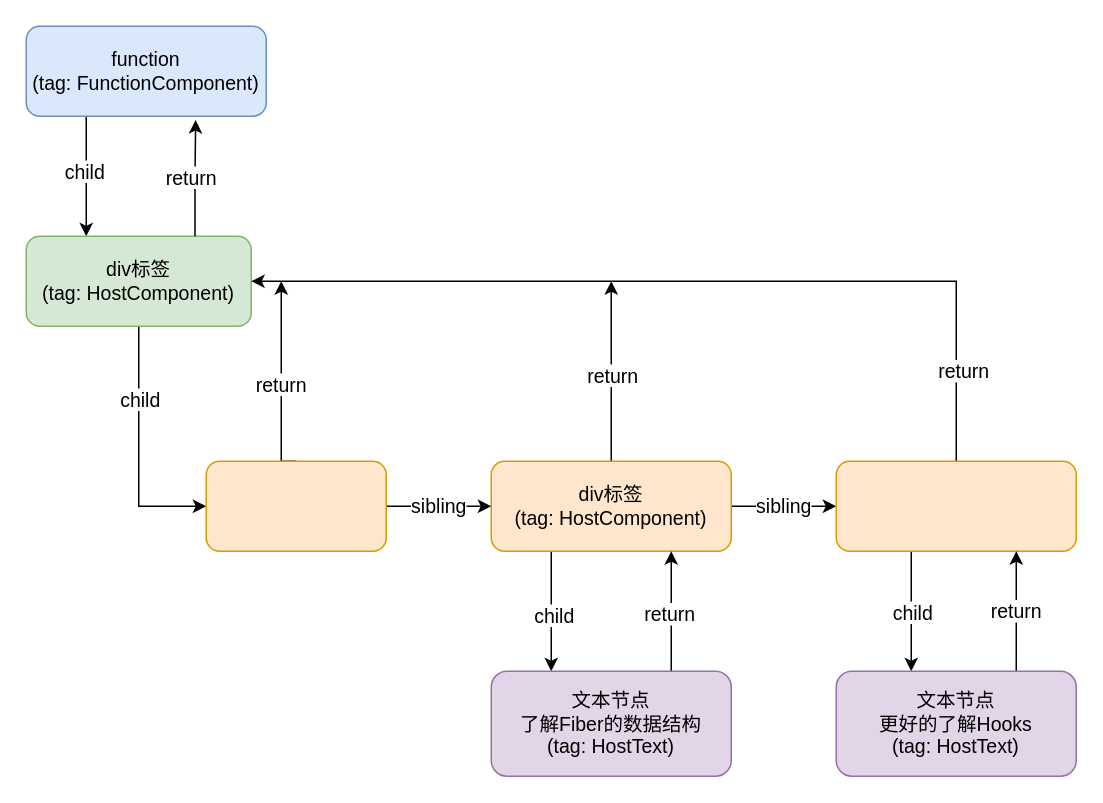
The diagram is 1103 pixels wide and 803 high, and some of its shapes have lost their labels. The shapes that lost their labels are listed below. From the top down, each one's box as (x1, y1, x2, y2) in pixels, then its label:
(205, 460, 386, 551): 文本节点 Hello Fiber (tag: HostText)
(835, 460, 1076, 551): p标签 (tag: HostComponent)
